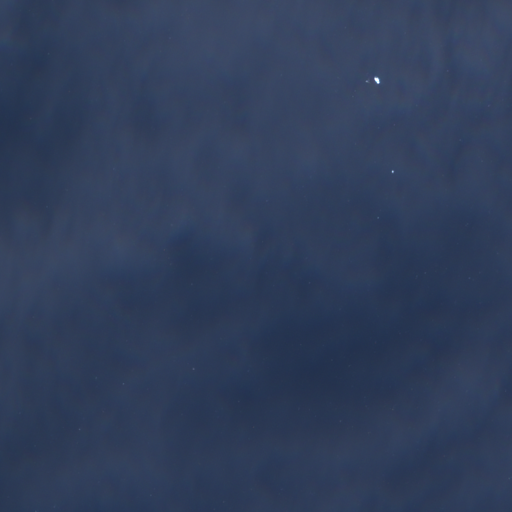Iceberg: (374, 77, 379, 83), (365, 80, 367, 82), (391, 170, 393, 172), (377, 217, 378, 218)
